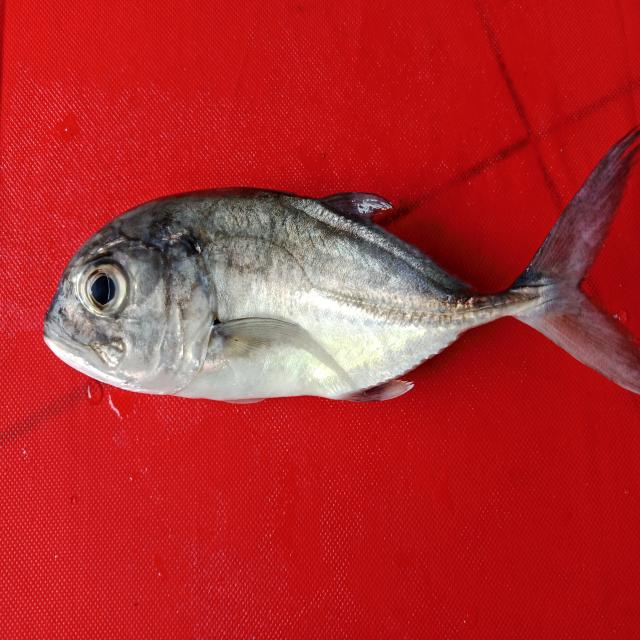ikan: (37, 117, 638, 419)
